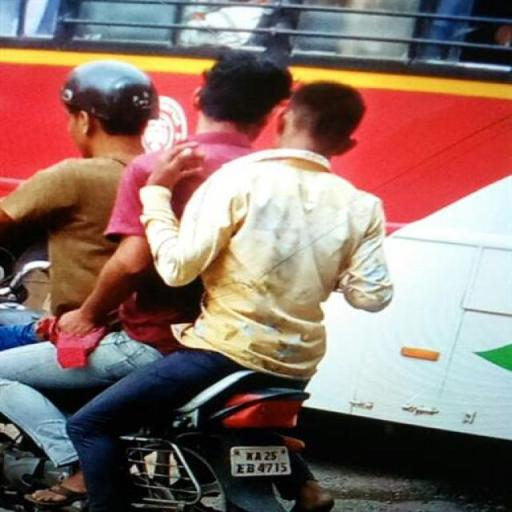tripple riding: (7, 48, 401, 385)
